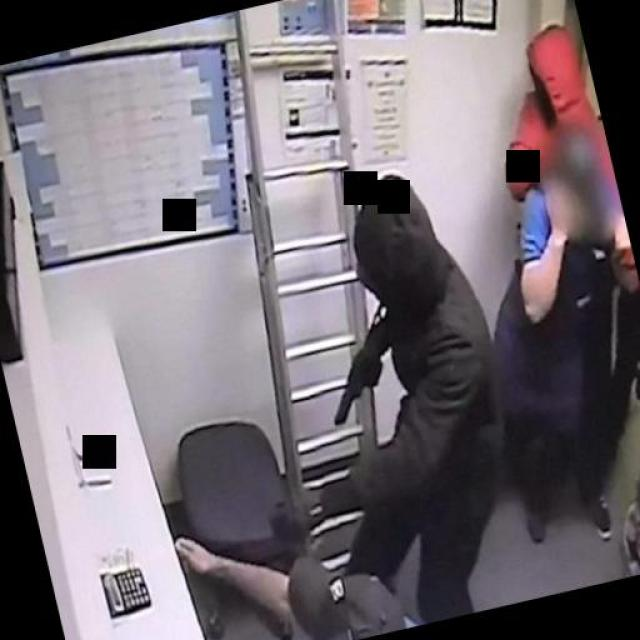gun: (316, 352, 392, 427)
